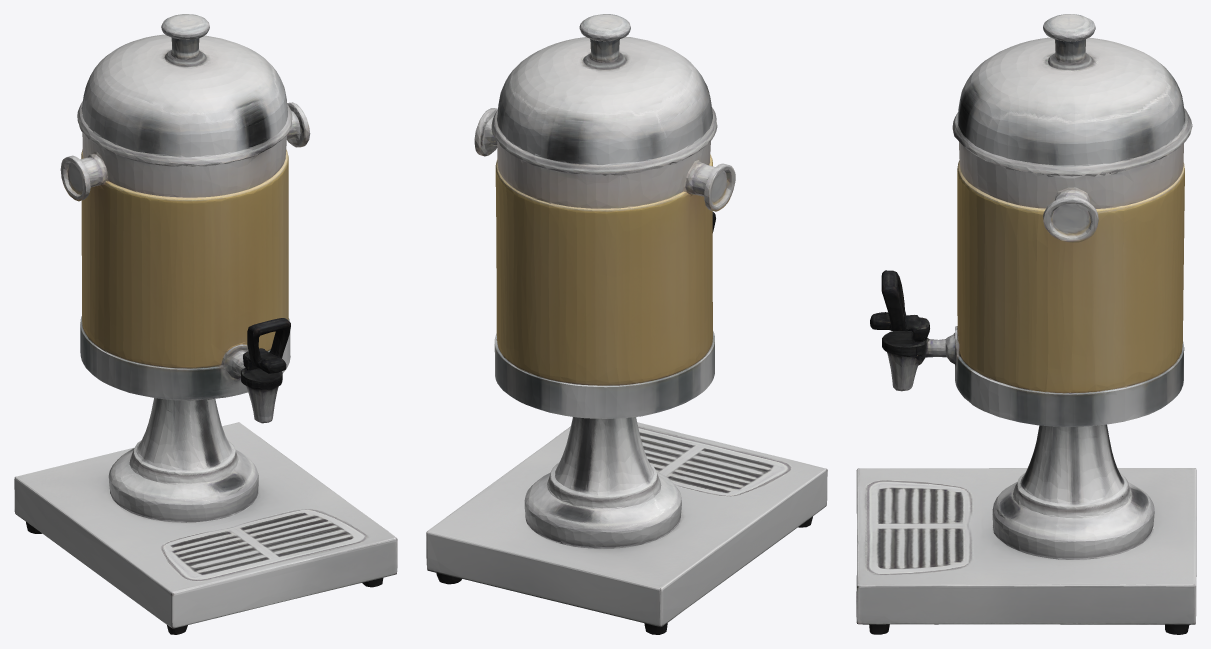
Rendered from bìnhtrasua.fbx.
3 renders of one model, left to right at view 1: azimuth 30°, elevation 25°; view 2: azimuth 150°, elevation 25°; view 3: azimuth 270°, elevation 25°, orthographic. The views are drawn at different scales.
Parts seen in each view (by area): view 1: world; view 2: world; view 3: world.
Part boxes in pixels (<box>): world: <box>14,14,397,634</box>; world: <box>426,14,827,634</box>; world: <box>856,14,1196,634</box>.
Size of the model in its own units: 0.4527 by 0.9988 by 0.5513.
1 material, 1 textured.
